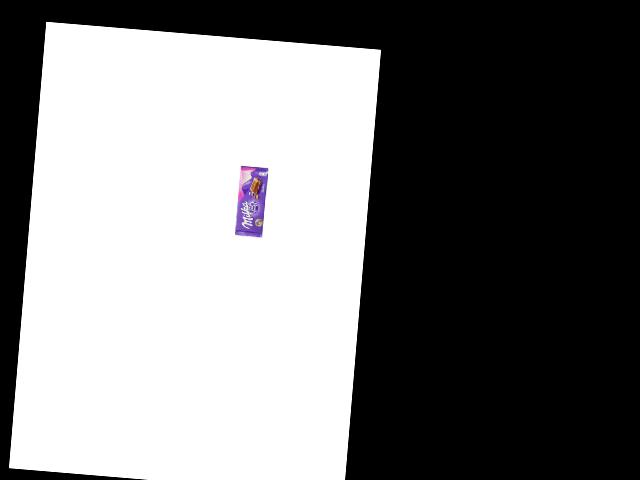chocolate: (234, 165, 269, 238)
